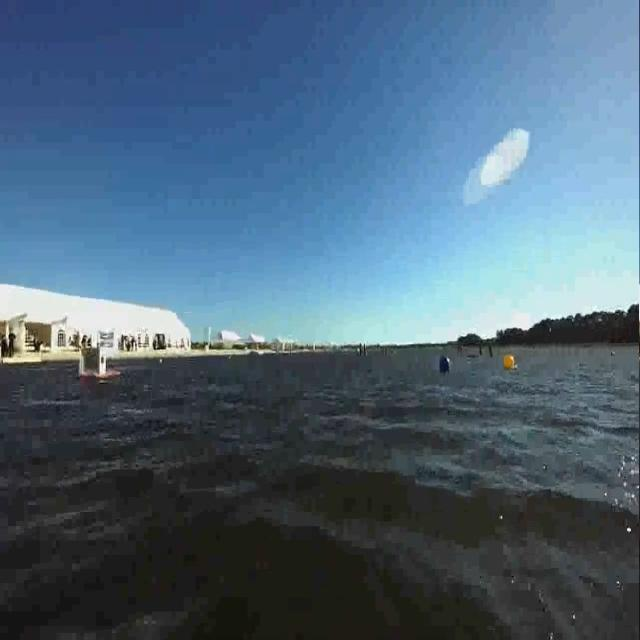blue-buoy: (438, 354, 450, 374)
yellow-buoy: (502, 352, 514, 370)
